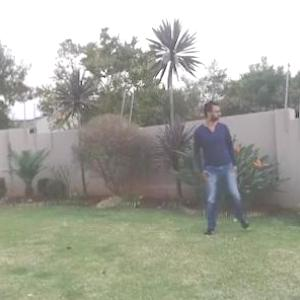follow: (197, 97, 236, 235)
